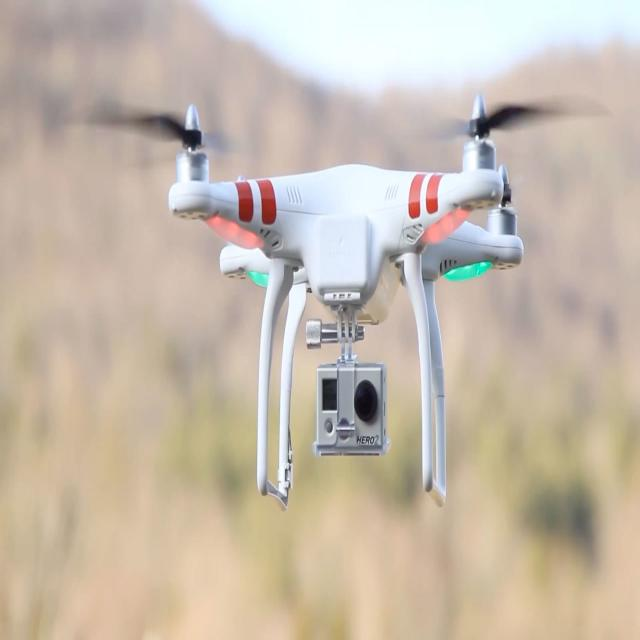Drone_FW: (64, 91, 611, 511)
